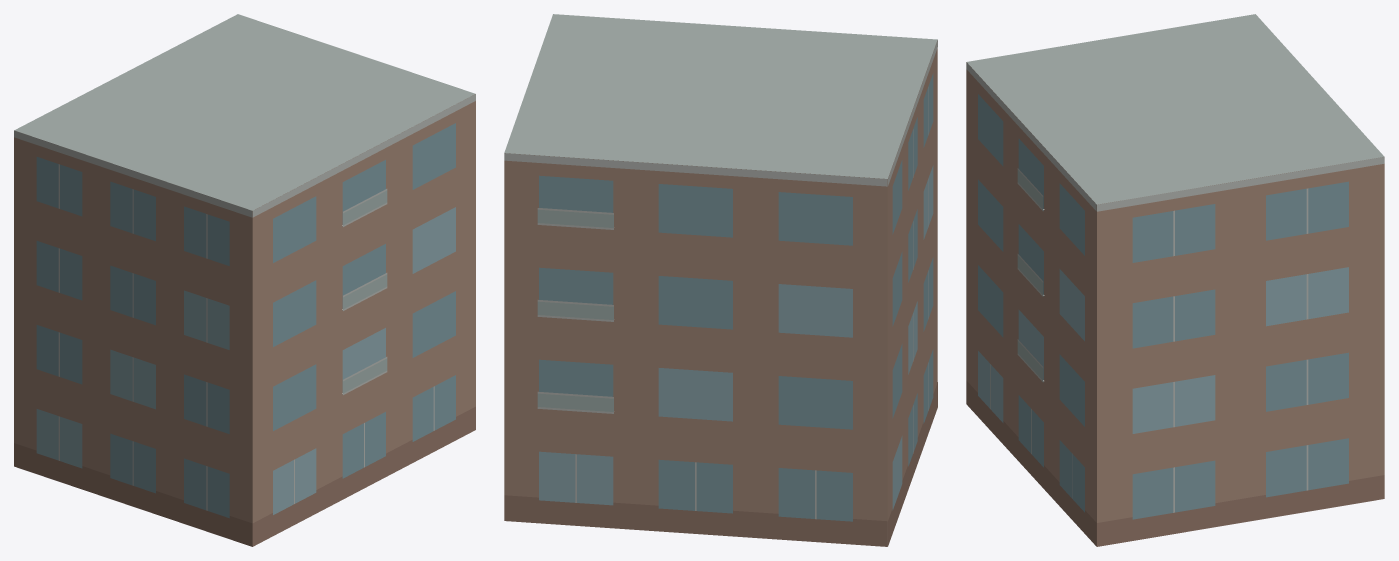
Rendered from survey-upis-32865620.glb.
The picture shows the model from 3 angles, left to right: view 1: azimuth 30°, elevation 25°; view 2: azimuth 150°, elevation 25°; view 3: azimuth 270°, elevation 25°; orthographic projection. The views are drawn at different scales.
Visible parts, largest first — view 1: survey-upis-32865620.tmp; view 2: survey-upis-32865620.tmp; view 3: survey-upis-32865620.tmp.
Boxes of the visible parts, x1=… form: survey-upis-32865620.tmp: x1=14, y1=14, x2=475, y2=546; survey-upis-32865620.tmp: x1=504, y1=14, x2=937, y2=546; survey-upis-32865620.tmp: x1=966, y1=14, x2=1384, y2=546.
Bounding box in the file's own units: 14.11 × 11.8 × 13.08.
